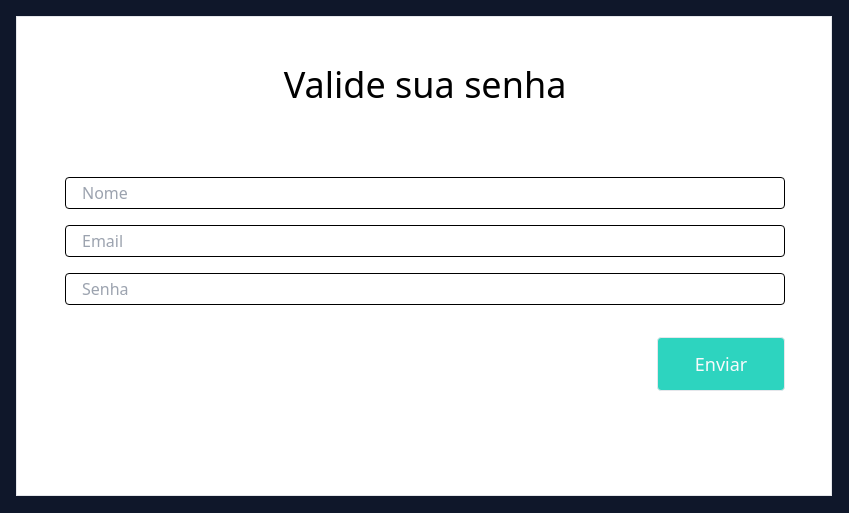
Test: Form Submission › shows errors when fields are empty
This screenshot has width=849, height=513.
Click the button "Enviar": (721, 364) [657,337,785,391]
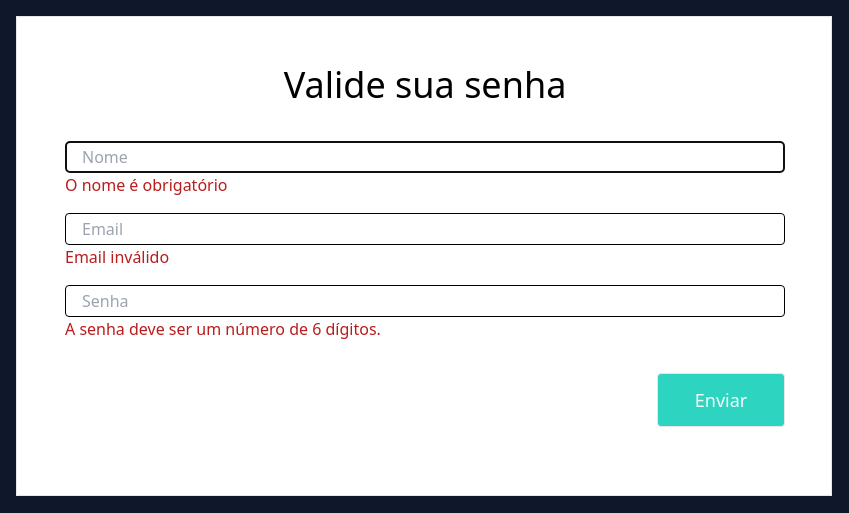
Check: the text "O nome é obrigatório" is shown, box [65,174,228,196]
Check: the text "Email inválido" is shown, box [65,246,169,268]
Check: the text "A senha deve ser um número de 6 dígitos." is shown, box [65,318,381,340]
